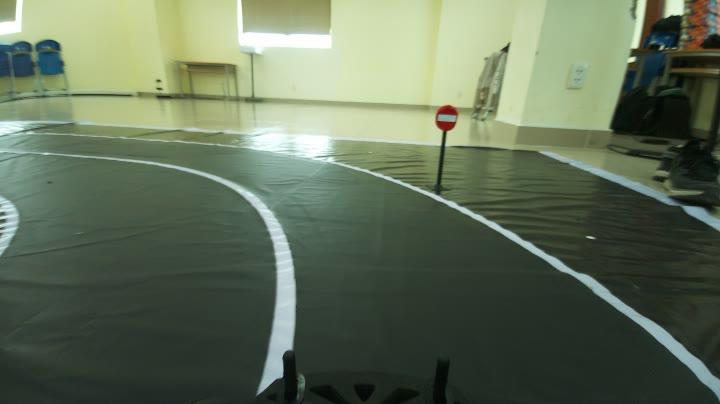no_entry: (432, 95, 470, 139)
